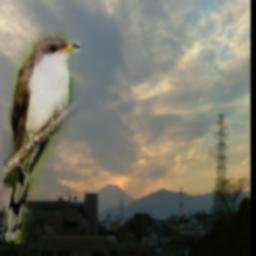Cuckoo: (4, 32, 81, 244)
